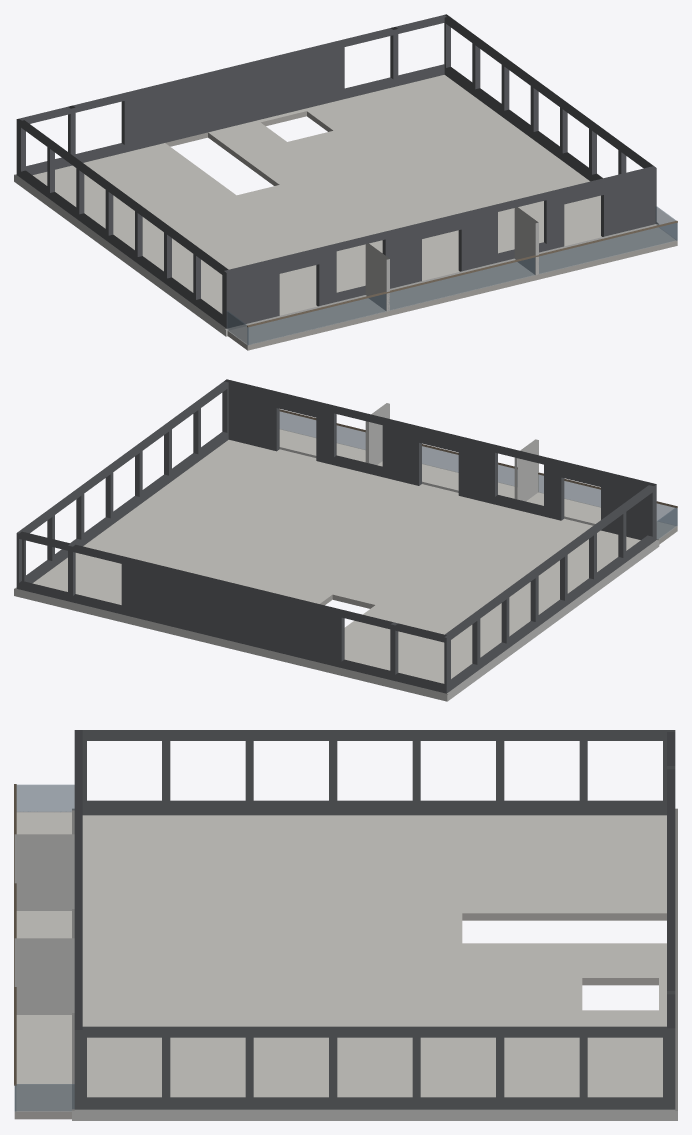
Rendered from condo-floor.reveal-v1.lod1.glb.
3 views of the same model, one above another, from view 1: azimuth 30°, elevation 25°; view 2: azimuth 150°, elevation 25°; view 3: azimuth 270°, elevation 25° (orthographic). The views are drawn at different scales.
Parts seen in each view (by area): view 1: condo-floor; view 2: condo-floor; view 3: condo-floor.
Part boxes in pixels (bbox=[...]): condo-floor: bbox=[14, 14, 677, 350]; condo-floor: bbox=[14, 379, 677, 701]; condo-floor: bbox=[14, 730, 677, 1120].
Bounding box in the file's own units: 26.2 × 3.62 × 24.32.
